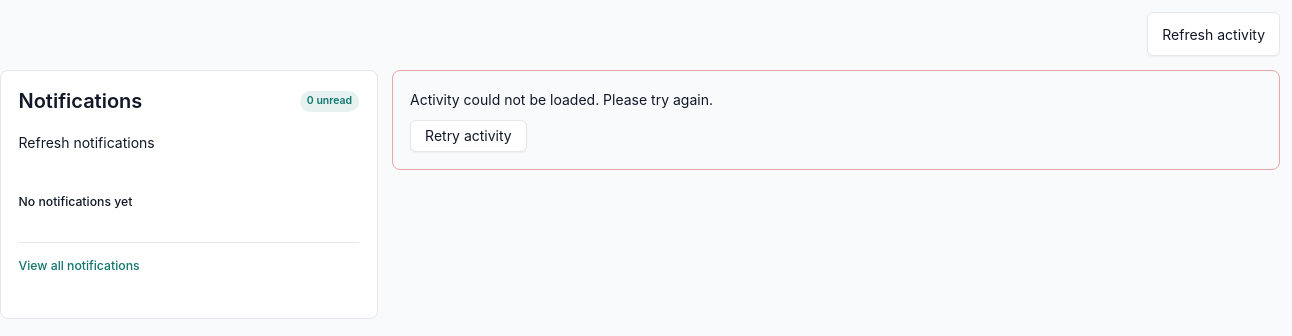
Scenario: retries a safe failure, shows empty state and replaces the response on refresh
Expected: the message does not show "private payload", [392, 70, 1280, 170]
Click the button "Retry activity" at [468, 136], box [410, 120, 527, 152]
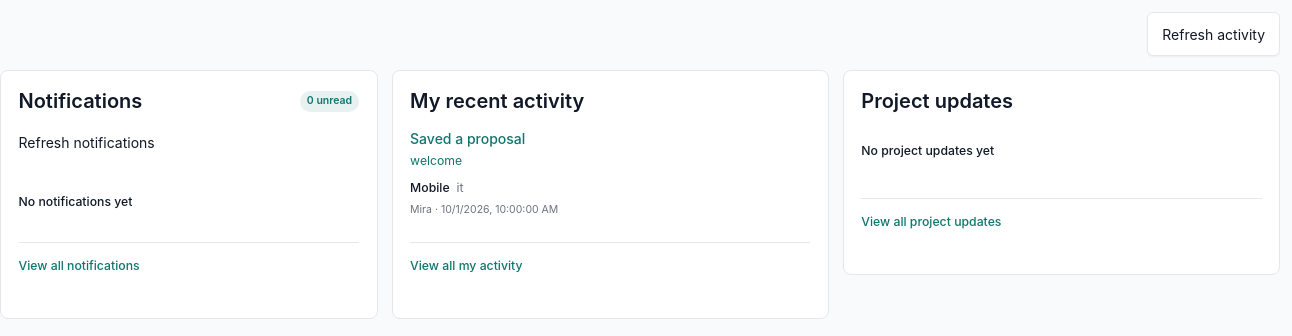
Expected: the link "Saved a proposal welcome" is shown, [410, 130, 525, 168]
Click the button "Refresh activity" at [1214, 34], box [1147, 12, 1280, 56]
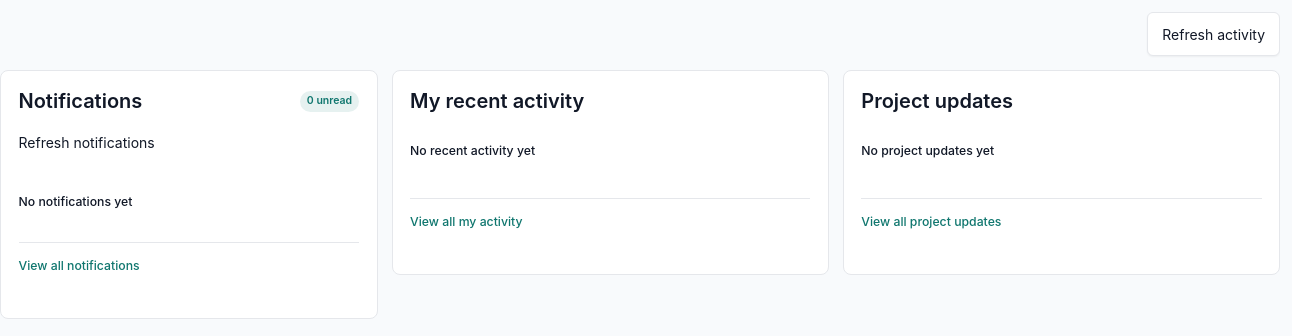
Expected: the text "No recent activity yet" is shown, [410, 142, 535, 158]
Expected: the link "welcome" is gone
